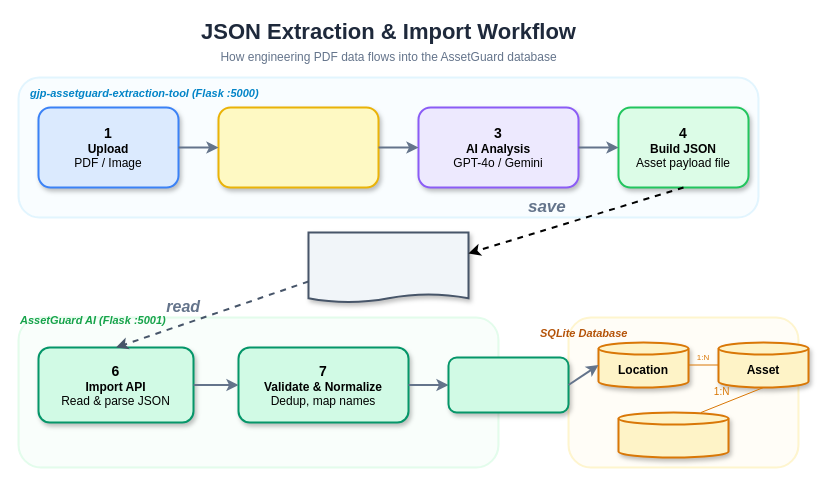
Some shapes in this 832 by 485 pixel diagram are drawn without their labels. Each missing label, with the centre of its shape:
"2 OCR Google Cloud Vision" goes at [299,148].
"5 JSON File /uploads/*.json" goes at [389,268].
"8 Save to DB" goes at [509,386].
"LoadCapacity" goes at [674,436].
